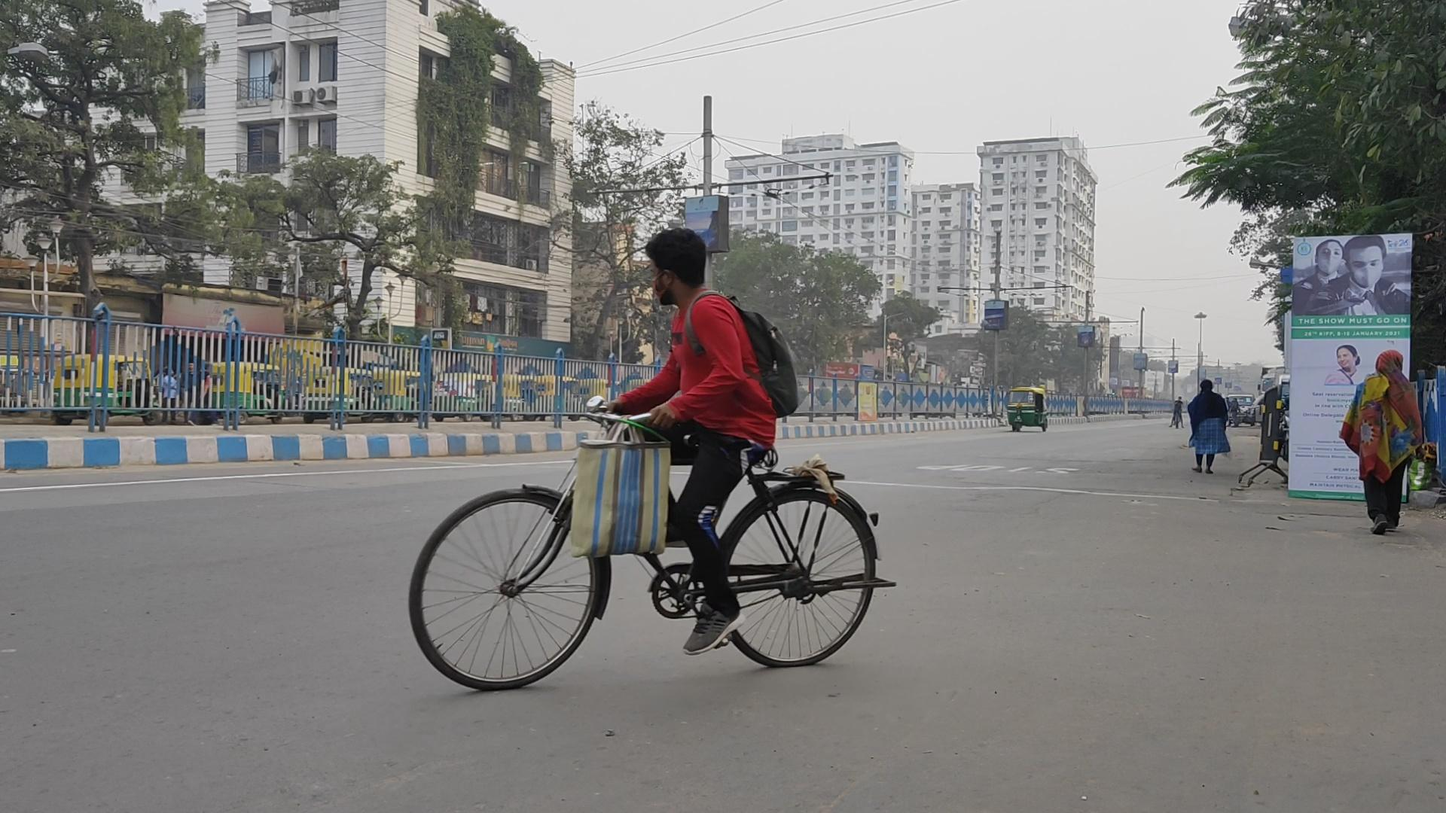Auto: (1005, 384, 1051, 435)
bike: (408, 229, 895, 691), (1170, 396, 1185, 428)
